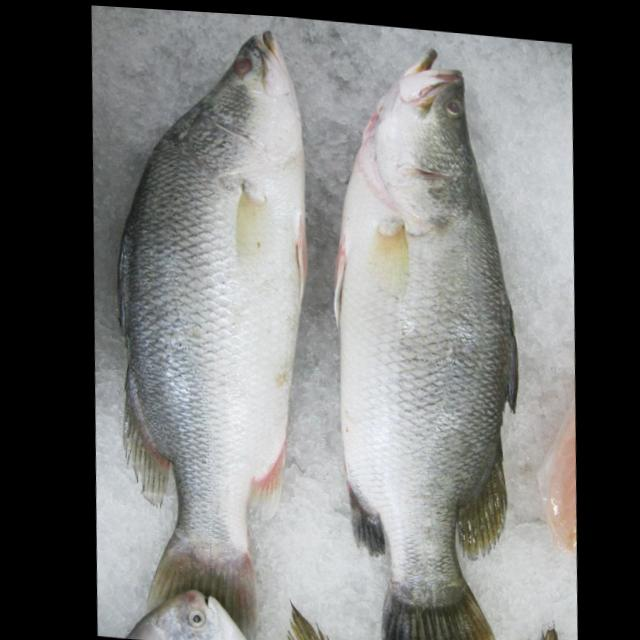Seabass: (88, 11, 330, 623), (307, 34, 541, 640)
